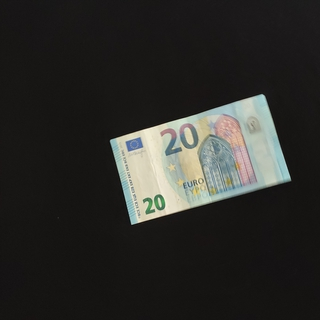20EUROFront: (109, 93, 292, 225)
